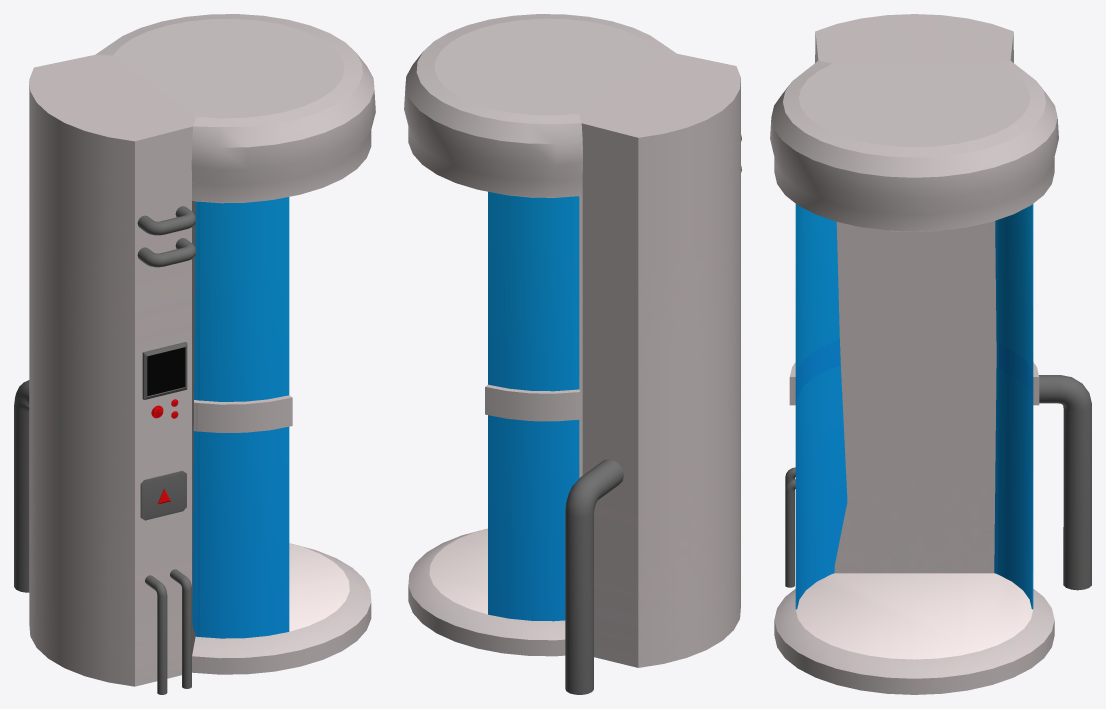
File: capsula.fbx
The picture shows the model from 3 angles, left to right: view 1: azimuth 30°, elevation 25°; view 2: azimuth 150°, elevation 25°; view 3: azimuth 270°, elevation 25°; orthographic projection. The views are drawn at different scales.
Parts seen in each view (by area): view 1: Circle.004, Circle.005, Circle.003; view 2: Circle.004, Circle.003, Circle.005; view 3: Circle.004, Circle.003, Circle.005.
Part boxes in pixels (x1,y1,x2,y2): Circle.004: (14, 14, 375, 694); Circle.005: (192, 197, 292, 638); Circle.003: (194, 201, 199, 636); Circle.004: (404, 14, 741, 694); Circle.003: (485, 191, 580, 621); Circle.005: (575, 196, 579, 482); Circle.004: (770, 14, 1091, 694); Circle.003: (830, 204, 1039, 609); Circle.005: (789, 204, 998, 609).
Size of the model in its own units: 555 by 947 by 511.
